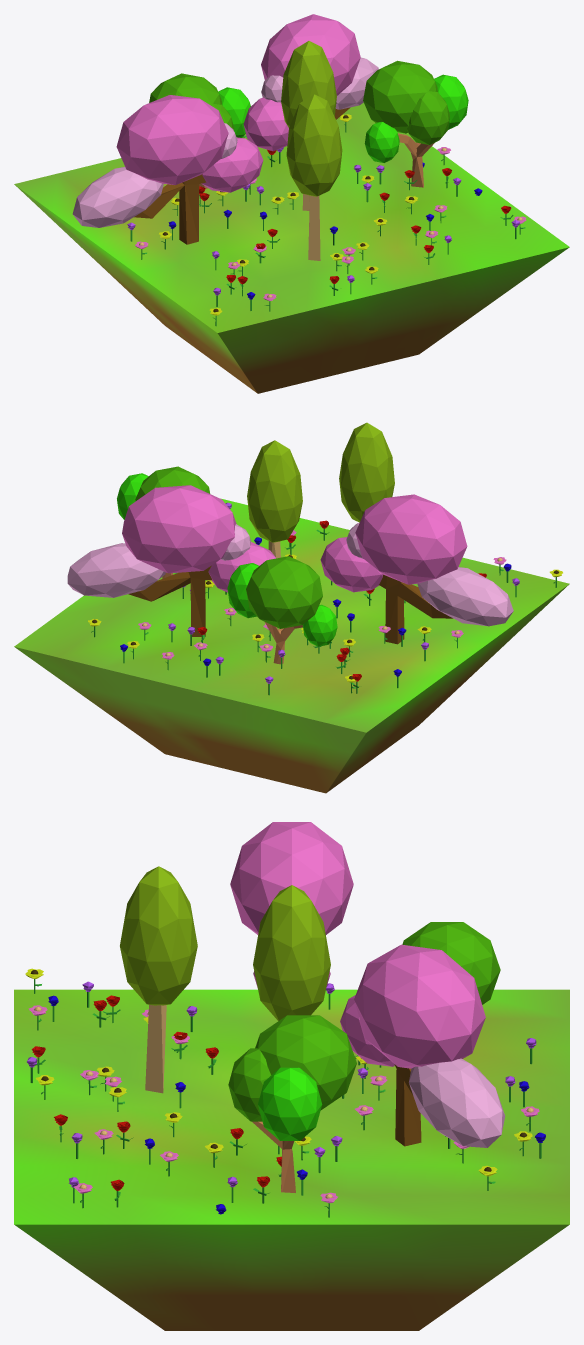
The picture shows the model from 3 angles, top to bottom: view 1: azimuth 30°, elevation 25°; view 2: azimuth 150°, elevation 25°; view 3: azimuth 270°, elevation 25°; orthographic projection. The views are drawn at different scales.
Visible parts, largest first — view 1: Base.007, Tree3 - 2.015, Tree1 - 2.015, Tree3 - 2.014, Tree2 - 2.014, Tree2 - 2.015, Tree1 - 2.014; view 2: Base.007, Tree3 - 2.015, Tree3 - 2.014, Tree1 - 2.014, Tree2 - 2.015, Tree2 - 2.014, Tree1 - 2.015; view 3: Base.007, Tree3 - 2.014, Tree1 - 2.015, Tree2 - 2.014, Tree3 - 2.015, Tree2 - 2.015, Tree1 - 2.014.
Part boxes in pixels (x1,y1,x2,y2): Base.007: (14,102,569,393); Tree3 - 2.015: (72,95,263,244); Tree1 - 2.015: (363,60,468,187); Tree3 - 2.014: (243,14,378,151); Tree2 - 2.014: (286,94,342,260); Tree2 - 2.015: (281,41,336,210); Tree1 - 2.014: (149,73,250,188); Base.007: (14,498,569,793); Tree3 - 2.015: (320,494,513,644); Tree3 - 2.014: (67,485,275,636); Tree1 - 2.014: (227,556,337,664); Tree2 - 2.015: (247,440,302,558); Tree2 - 2.014: (339,422,394,522); Tree1 - 2.015: (117,466,210,578); Base.007: (14,989,569,1330); Tree3 - 2.014: (340,944,505,1147); Tree1 - 2.015: (228,1015,356,1192); Tree2 - 2.014: (120,866,197,1093); Tree3 - 2.015: (230,822,353,987); Tree2 - 2.015: (253,885,330,1020); Tree1 - 2.014: (402,922,500,1004).
Size of the model in its own units: 16.01 by 11.5 by 14.36.
